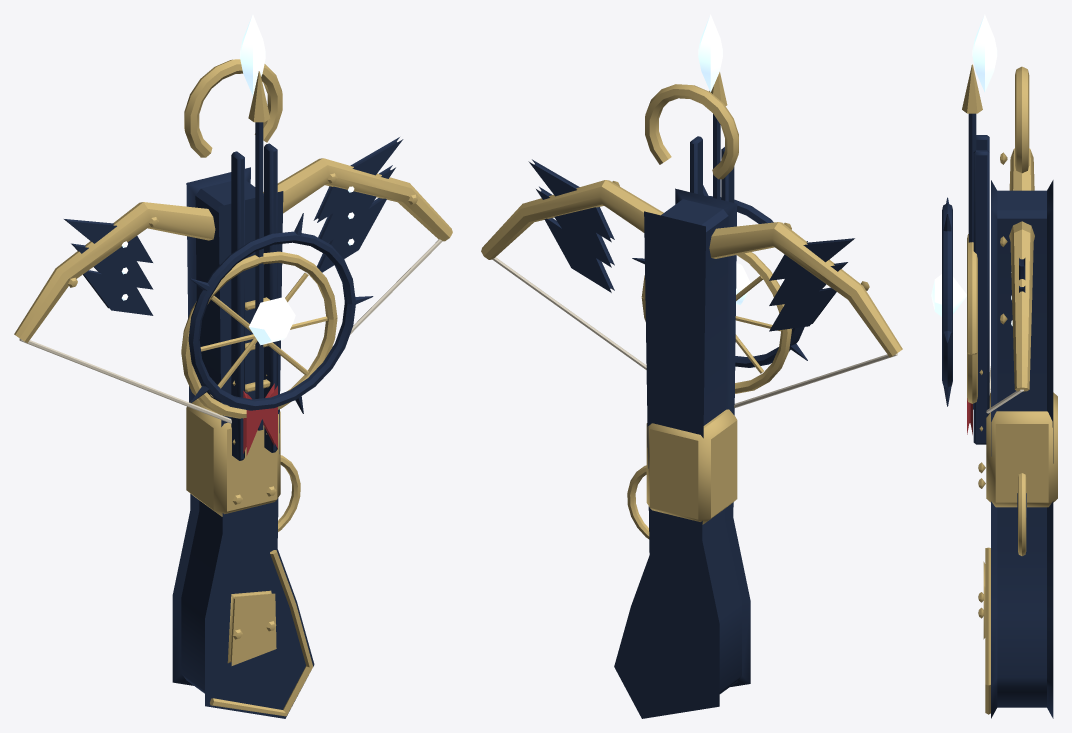
File: boss_starfall_hunter_main_weapon.glb
3 views of the same model, side by side, from view 1: azimuth 30°, elevation 25°; view 2: azimuth 150°, elevation 25°; view 3: azimuth 270°, elevation 25° (orthographic). The views are drawn at different scales.
Visible parts, largest first — view 1: boss_starfall_hunter_main_weapon; view 2: boss_starfall_hunter_main_weapon; view 3: boss_starfall_hunter_main_weapon.
Part boxes in pixels (x1,y1,x2,y2): boss_starfall_hunter_main_weapon: (14, 14, 452, 718); boss_starfall_hunter_main_weapon: (481, 14, 902, 718); boss_starfall_hunter_main_weapon: (931, 14, 1057, 718).
Bounding box in the file's own units: 0.7799 × 1.22 × 0.204.
